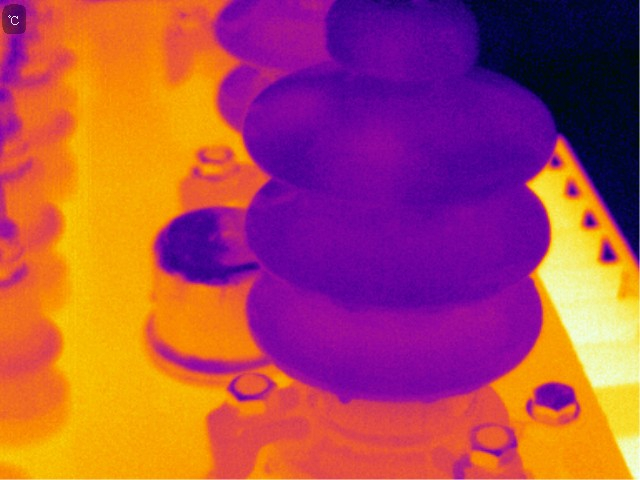Oil: (350, 122, 405, 168), (270, 86, 325, 129), (373, 31, 412, 75), (331, 387, 356, 407)
